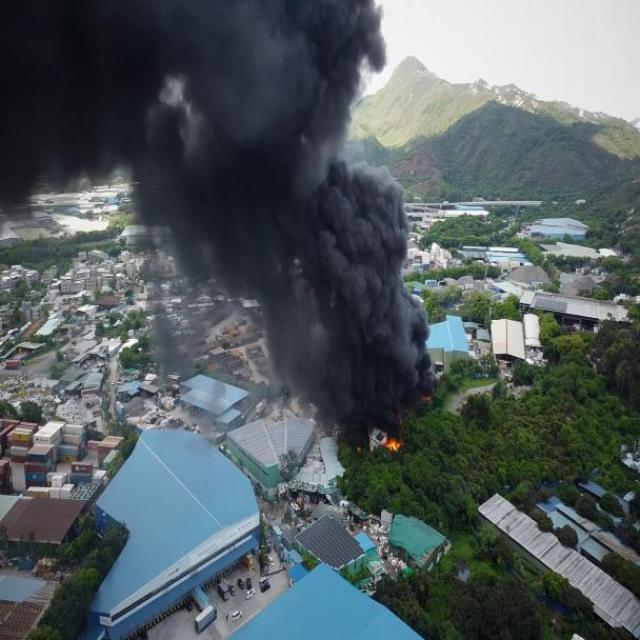Smoke: (8, 10, 320, 137), (288, 172, 434, 420)
